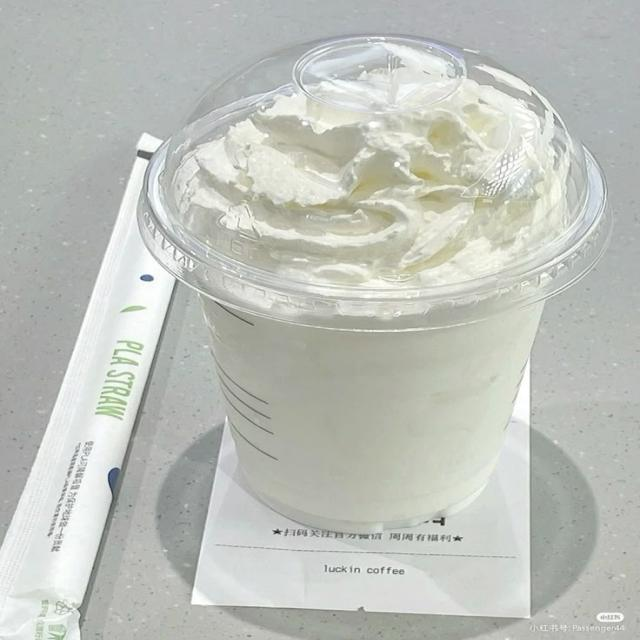plastic cup: (139, 33, 614, 533)
